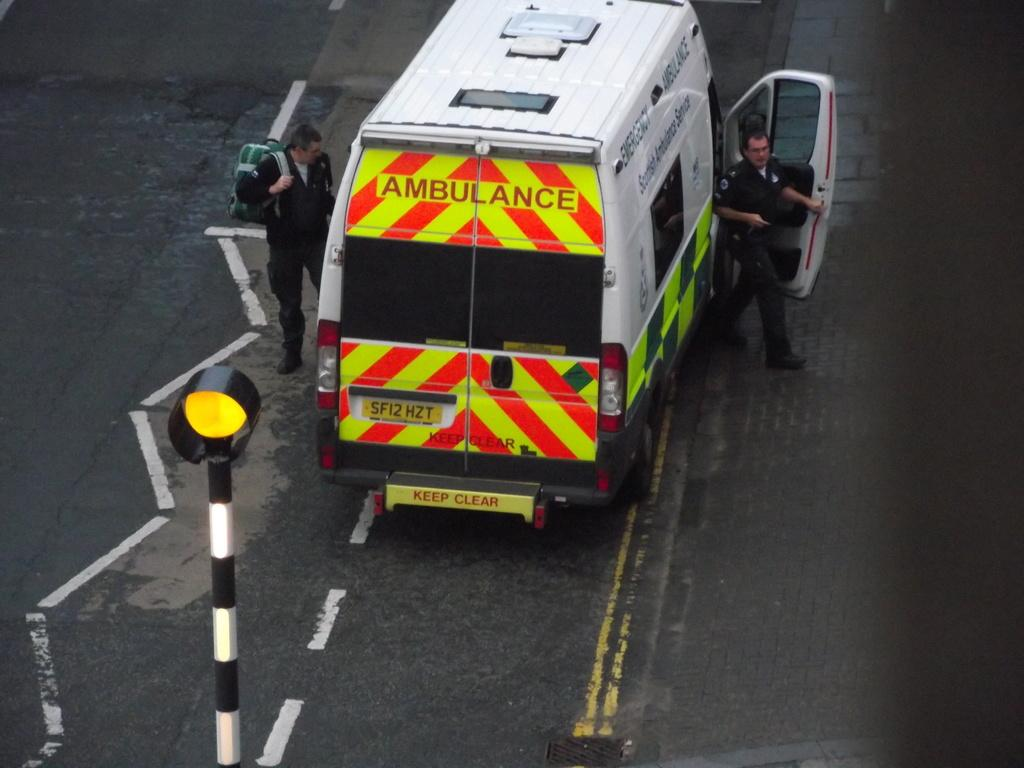Ambulance: (310, 0, 838, 532)
